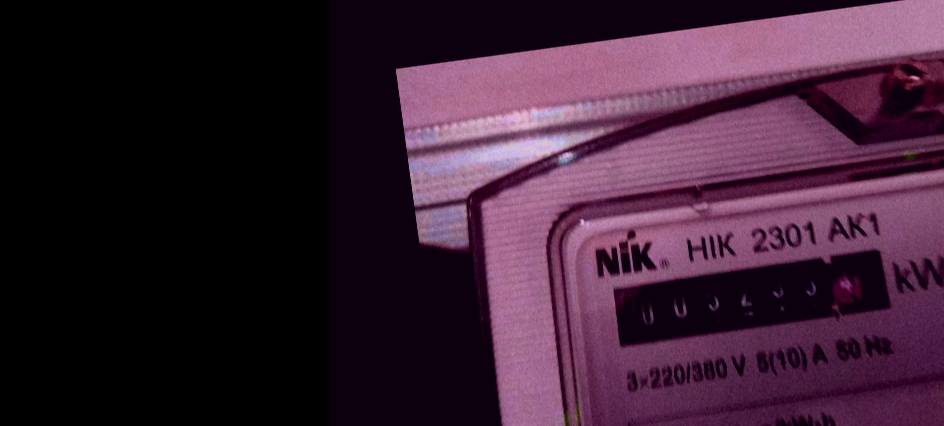0: (668, 287, 692, 322), (637, 295, 659, 328)
2: (733, 275, 759, 311)
3: (765, 268, 793, 304)
4: (833, 259, 860, 298)
5: (798, 263, 825, 302), (702, 280, 725, 316)
screen: (594, 234, 905, 360)
